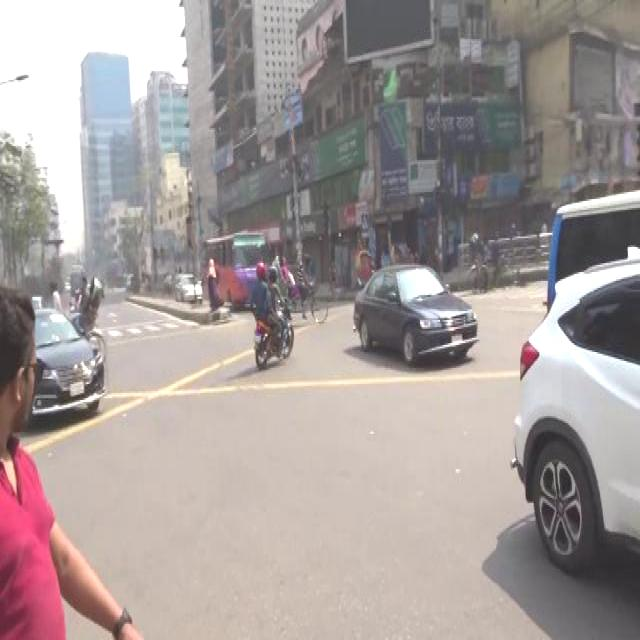MOTORCYCLE: (252, 264, 298, 374)
SED: (354, 260, 476, 368)
